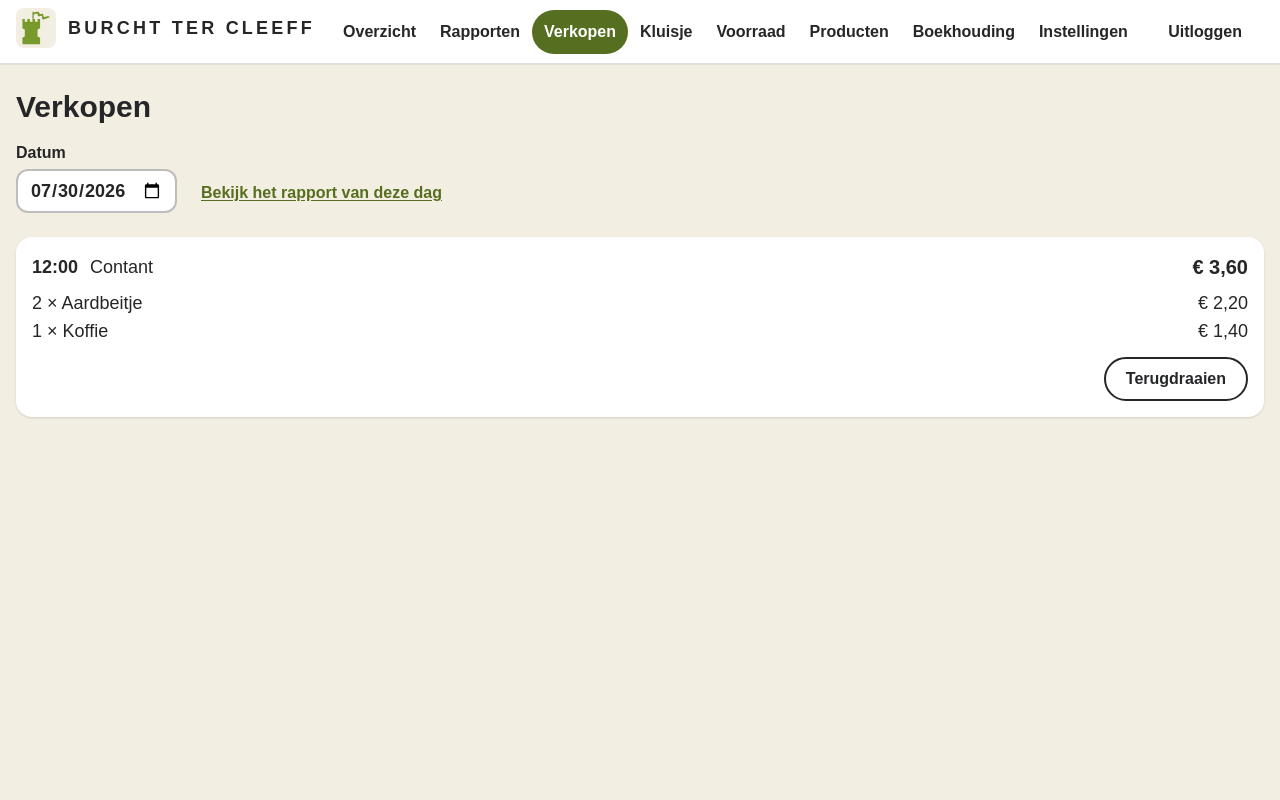
it: explains a sale that was reversed in the meantime
Click the button "Terugdraaien" at (1176, 379), box [1104,357,1248,401]
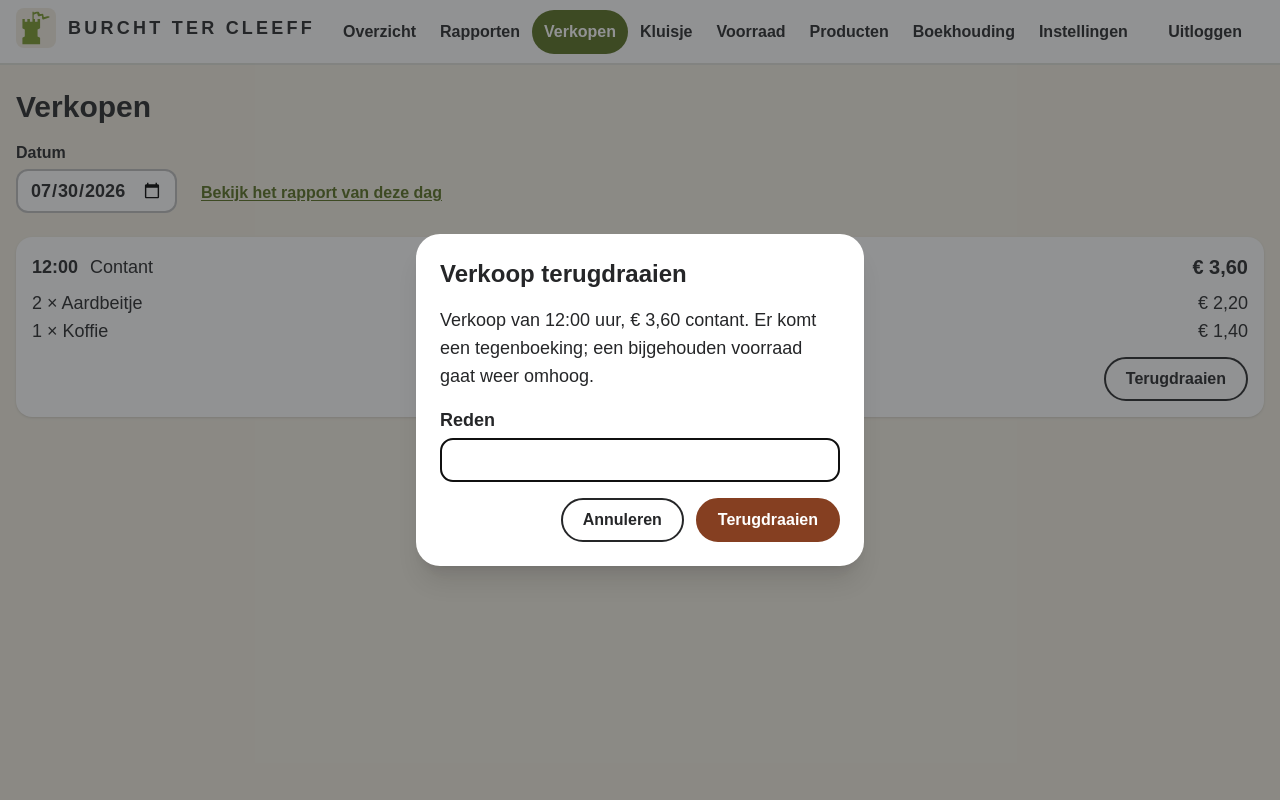
Type "dubbel" into the field labelled "Reden" at (640, 460), box [440,438,840,482]
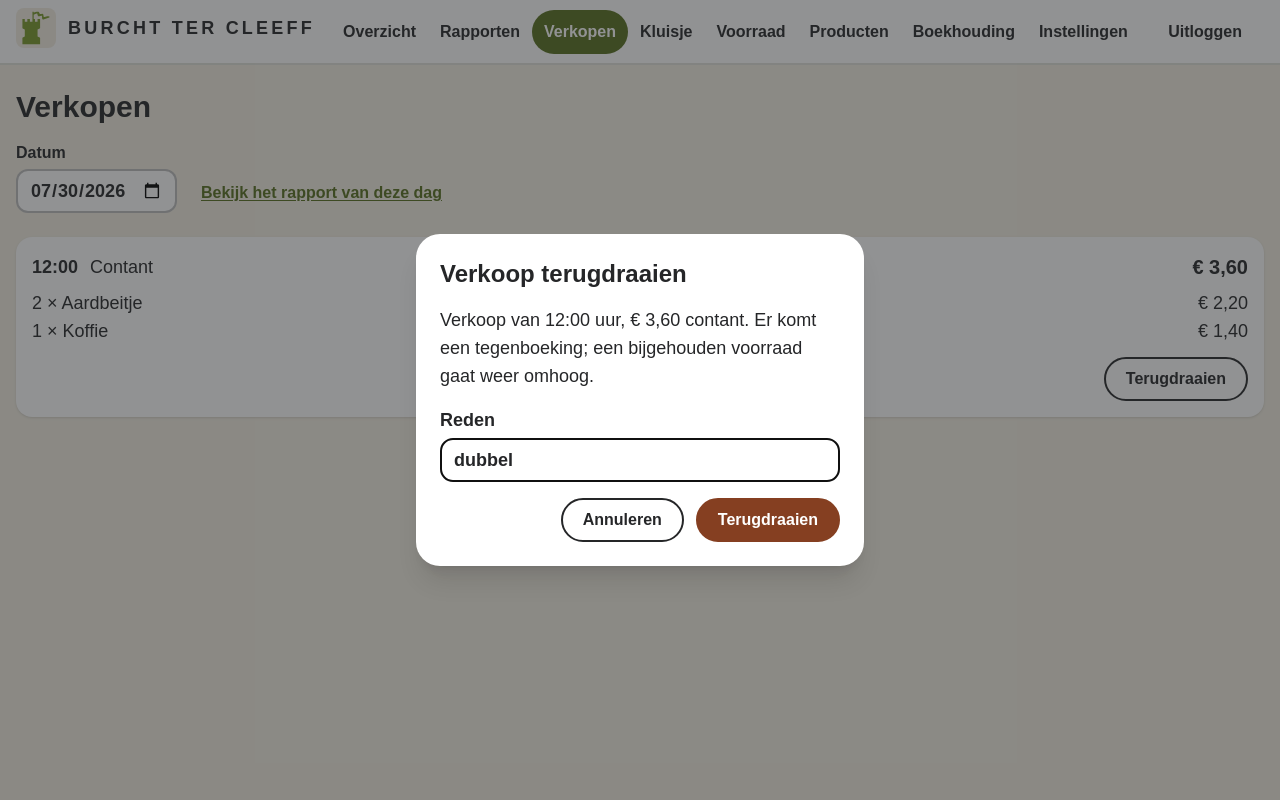
Click the button "Terugdraaien" at (768, 520), box [696,498,840,542]
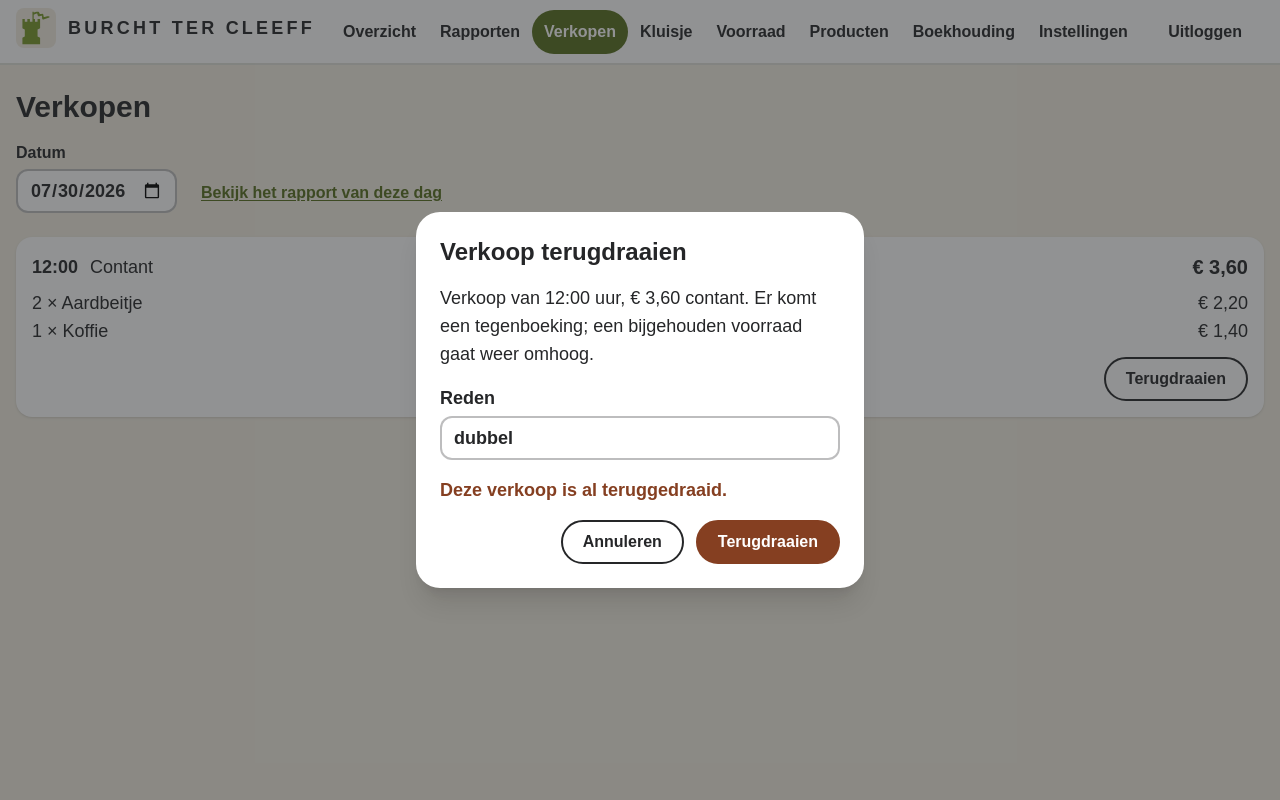
Expected: the text "Deze verkoop is al teruggedraaid." is shown, [440,480,727,500]
